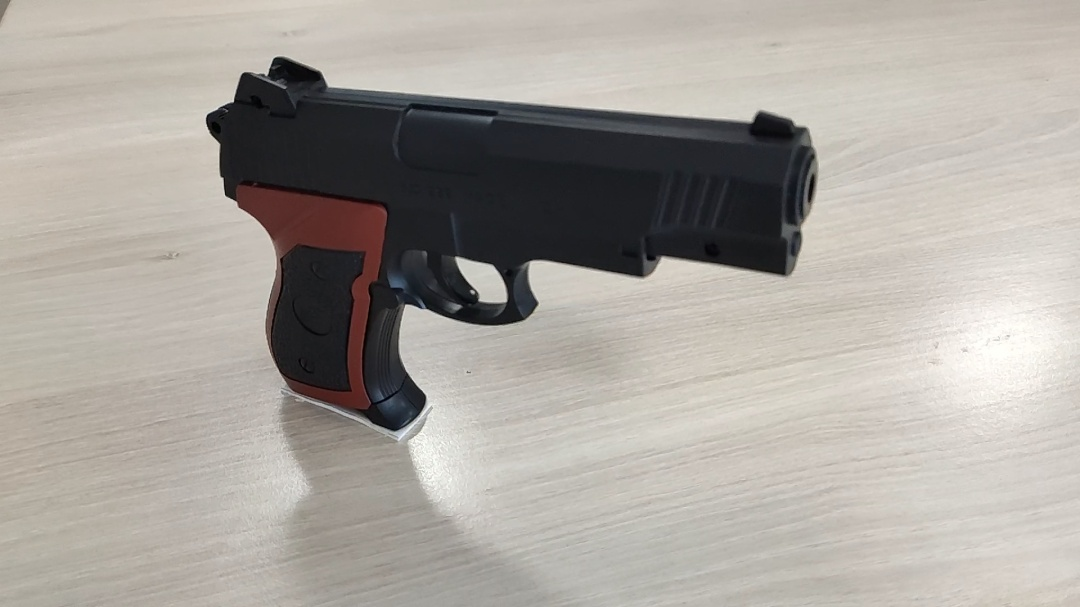gun: (615, 165, 865, 306)
